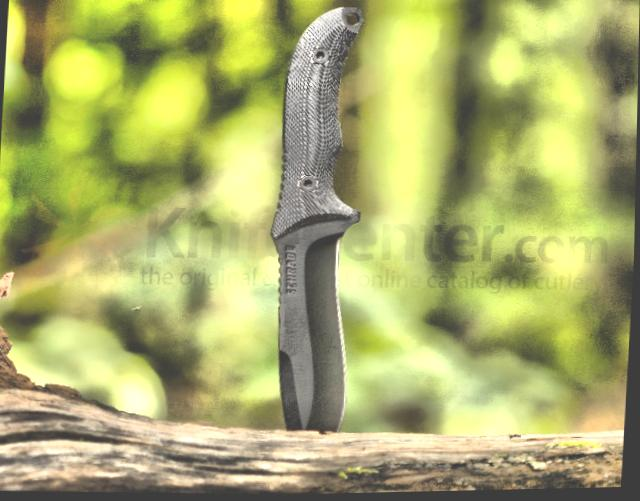knife: (256, 0, 378, 441)
